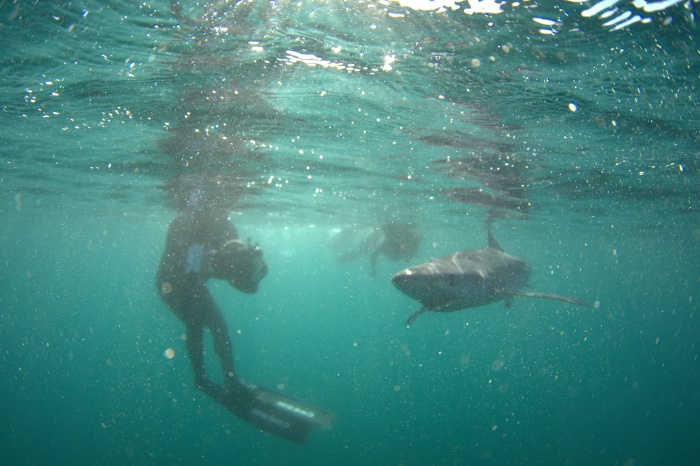Azul: (367, 213, 613, 336)
